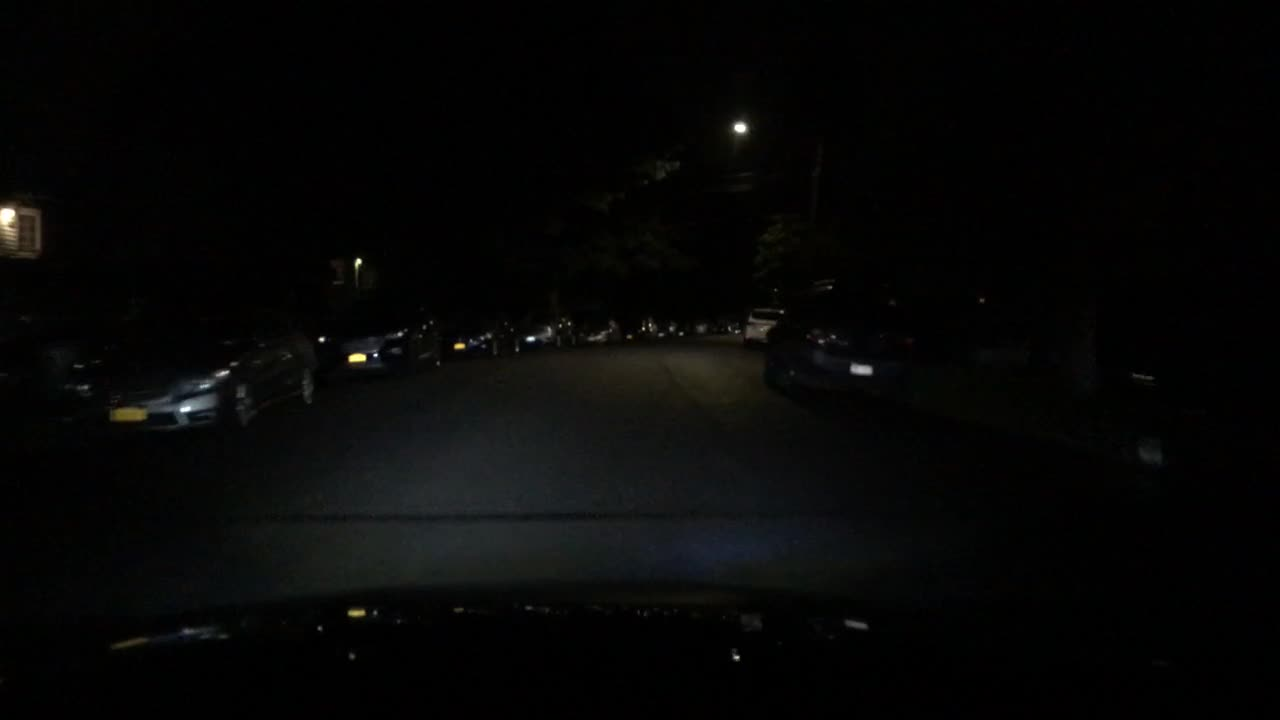car: (61, 308, 317, 442), (763, 275, 914, 404), (315, 300, 444, 374), (444, 311, 521, 357), (522, 312, 571, 349), (744, 306, 785, 347), (574, 312, 624, 345), (653, 317, 692, 338), (625, 311, 652, 341), (694, 318, 721, 334), (722, 318, 743, 334)
traffic light: (0, 206, 40, 259)
